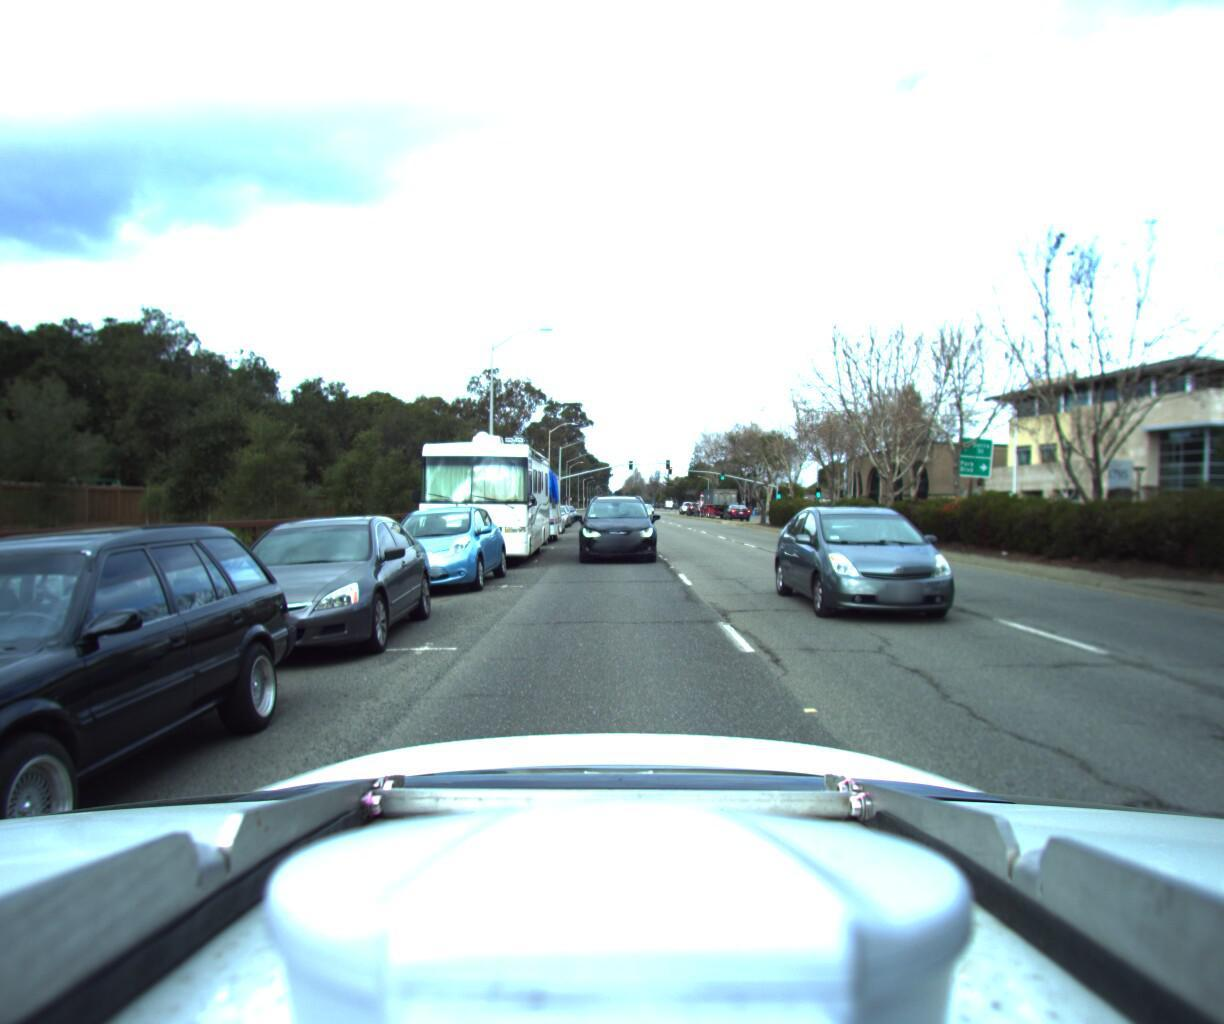bus: (406, 427, 551, 561)
car: (162, 505, 440, 672), (785, 502, 1030, 649), (367, 499, 509, 596), (575, 489, 652, 562), (540, 498, 570, 522), (721, 497, 751, 514)
other_vehicle: (475, 455, 560, 541)
truck: (697, 481, 737, 514)
